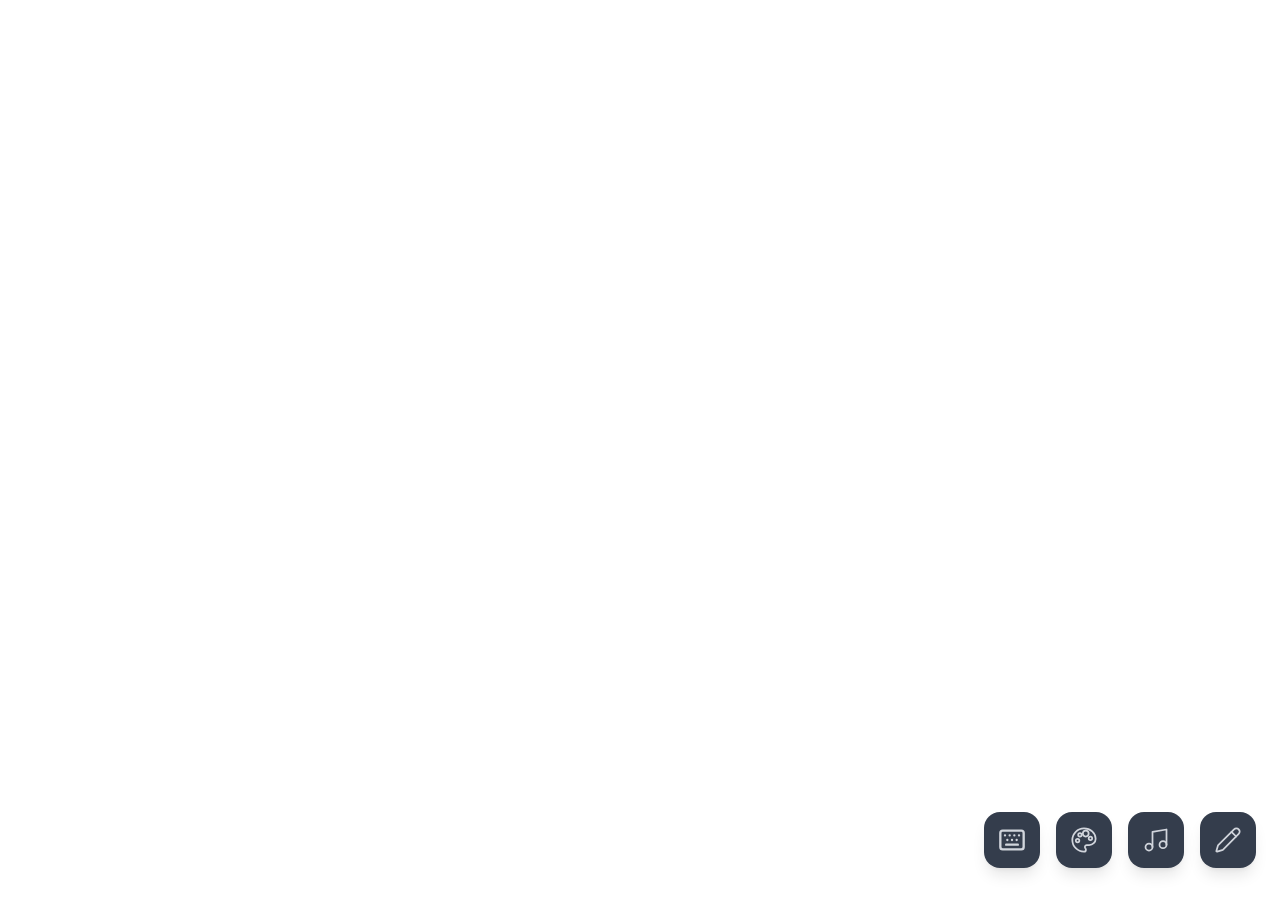
Test case: FloatingActions › toggles theme panel on click
This screenshot has width=1280, height=900.
Step 1. Click the button named "Theme" → (1084, 840), box [1056,812,1112,868]
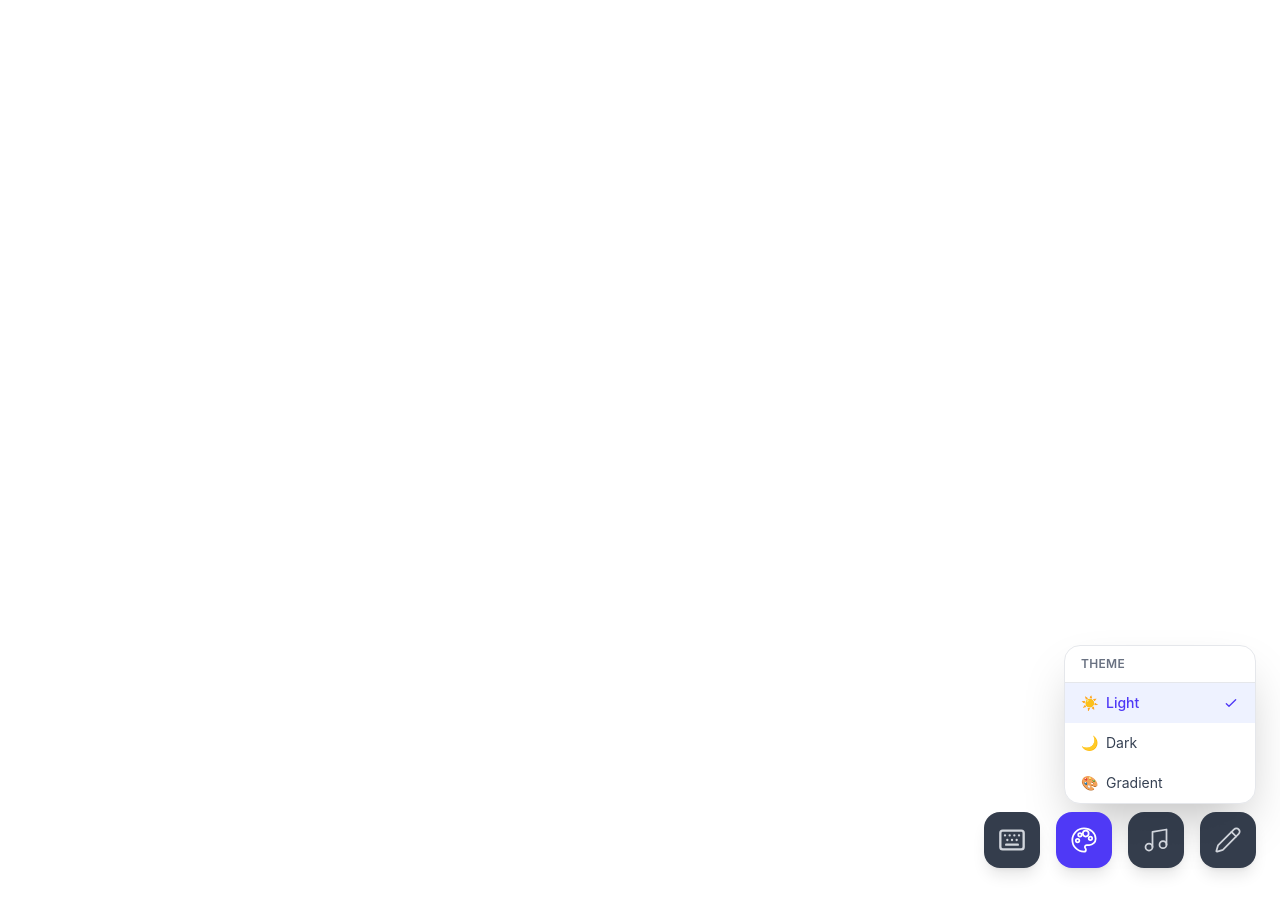
Check: the button named "Theme" is expanded, box [1056,812,1112,868]
